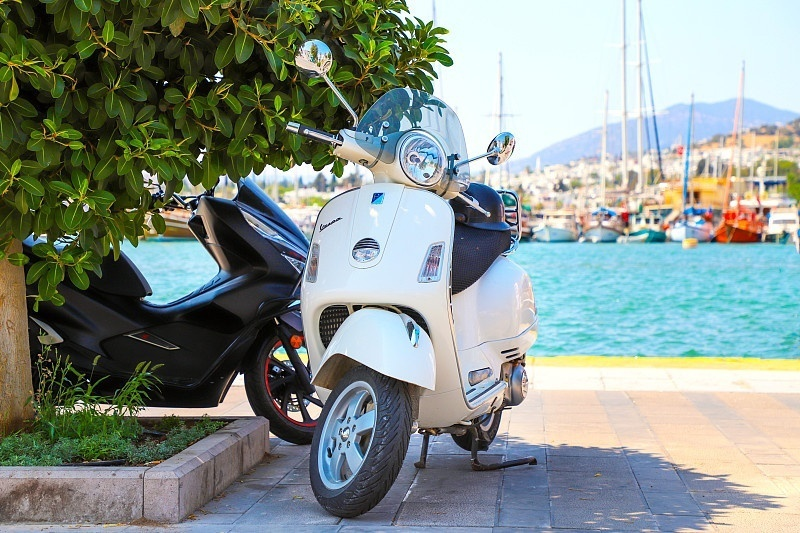non-vehicle: (295, 72, 526, 532), (15, 162, 301, 428)
